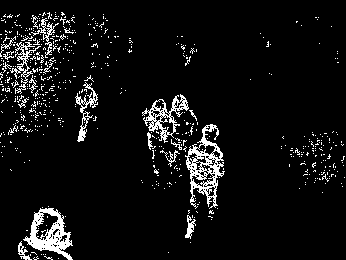person: (190, 120, 220, 239), (144, 98, 169, 179), (172, 91, 194, 179), (77, 72, 102, 146)
